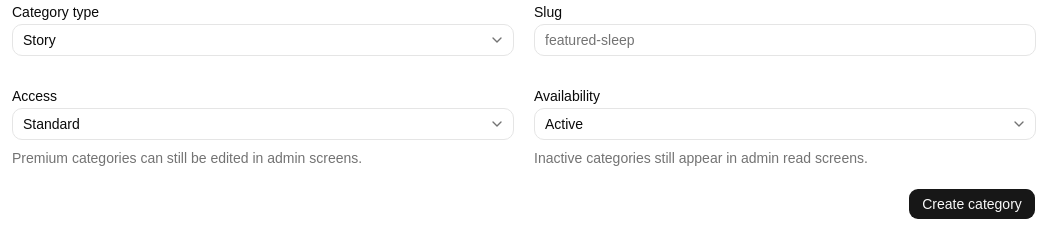
Test: CategoryForm › shows content-aligned category type options
Click the dropdown named "category type" at (39, 40), box [12,24,514,56]
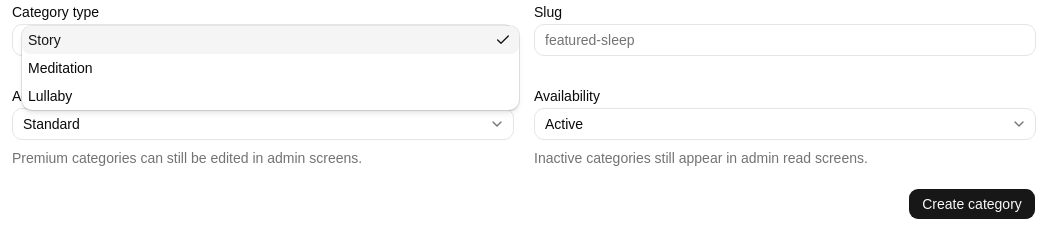
Check: the option "Story" is shown, box [22,26,519,54]
Check: the option "Meditation" is shown, box [28,60,93,76]
Check: the option "Lullaby" is shown, box [28,88,72,104]
